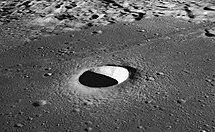crater: (62, 54, 147, 110)
